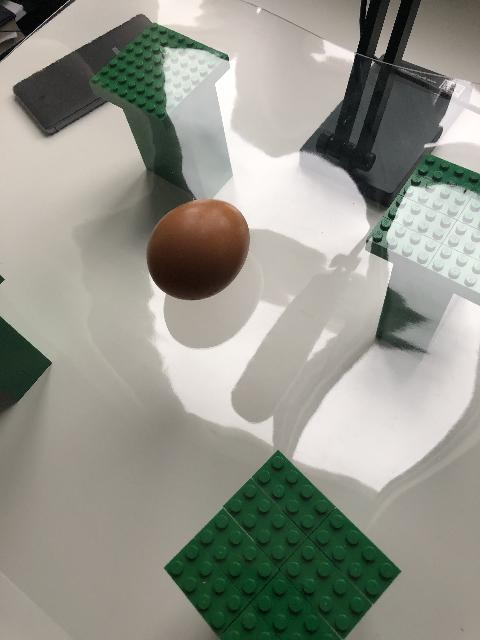Sano: (145, 197, 250, 301)
